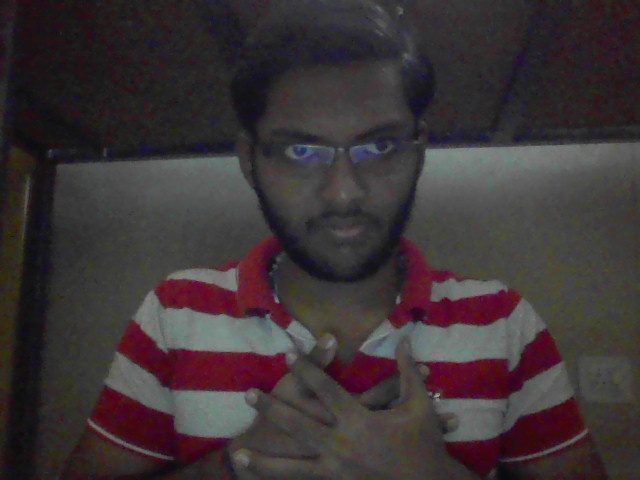Yes_Hungry: (227, 321, 449, 480)
